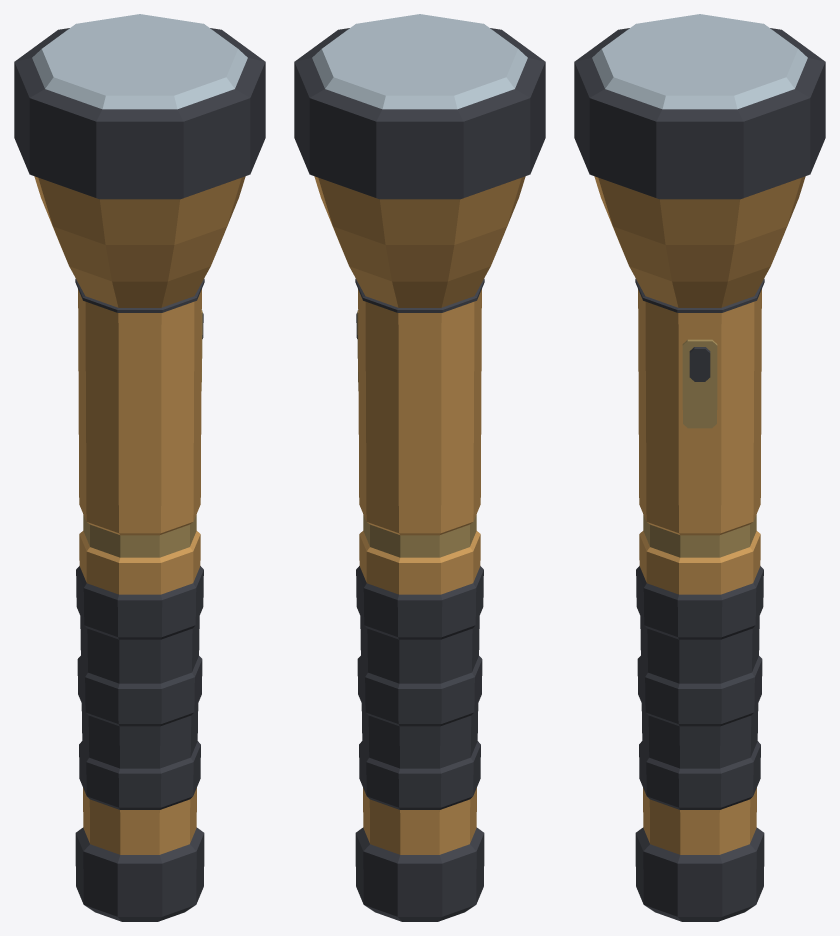
The model's file is flashlight.dae.
3 views of the same model, side by side, from view 1: azimuth 30°, elevation 25°; view 2: azimuth 150°, elevation 25°; view 3: azimuth 270°, elevation 25° (orthographic).
Visible parts, largest first — view 1: flashlight; view 2: flashlight; view 3: flashlight.
Part boxes in pixels (bbox=[...]): flashlight: bbox=[14, 14, 265, 921]; flashlight: bbox=[294, 14, 545, 921]; flashlight: bbox=[574, 14, 825, 921].
Bounding box in the file's own units: 0.0663 × 0.0673 × 0.25.
